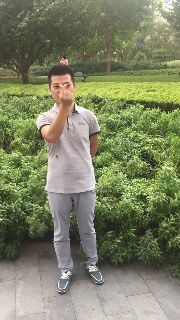hand: (58, 83, 72, 105)
